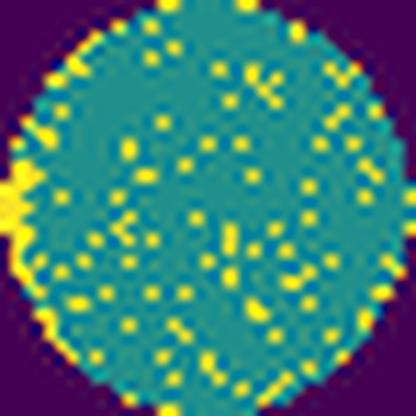Edge-Loc: (0, 159, 55, 299), (36, 306, 83, 367)
